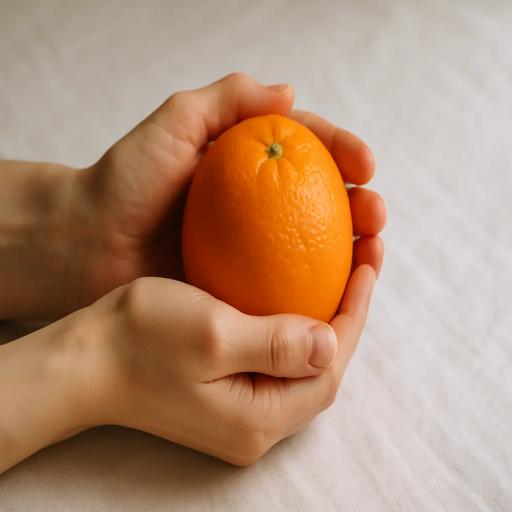orange: (183, 115, 353, 321)
